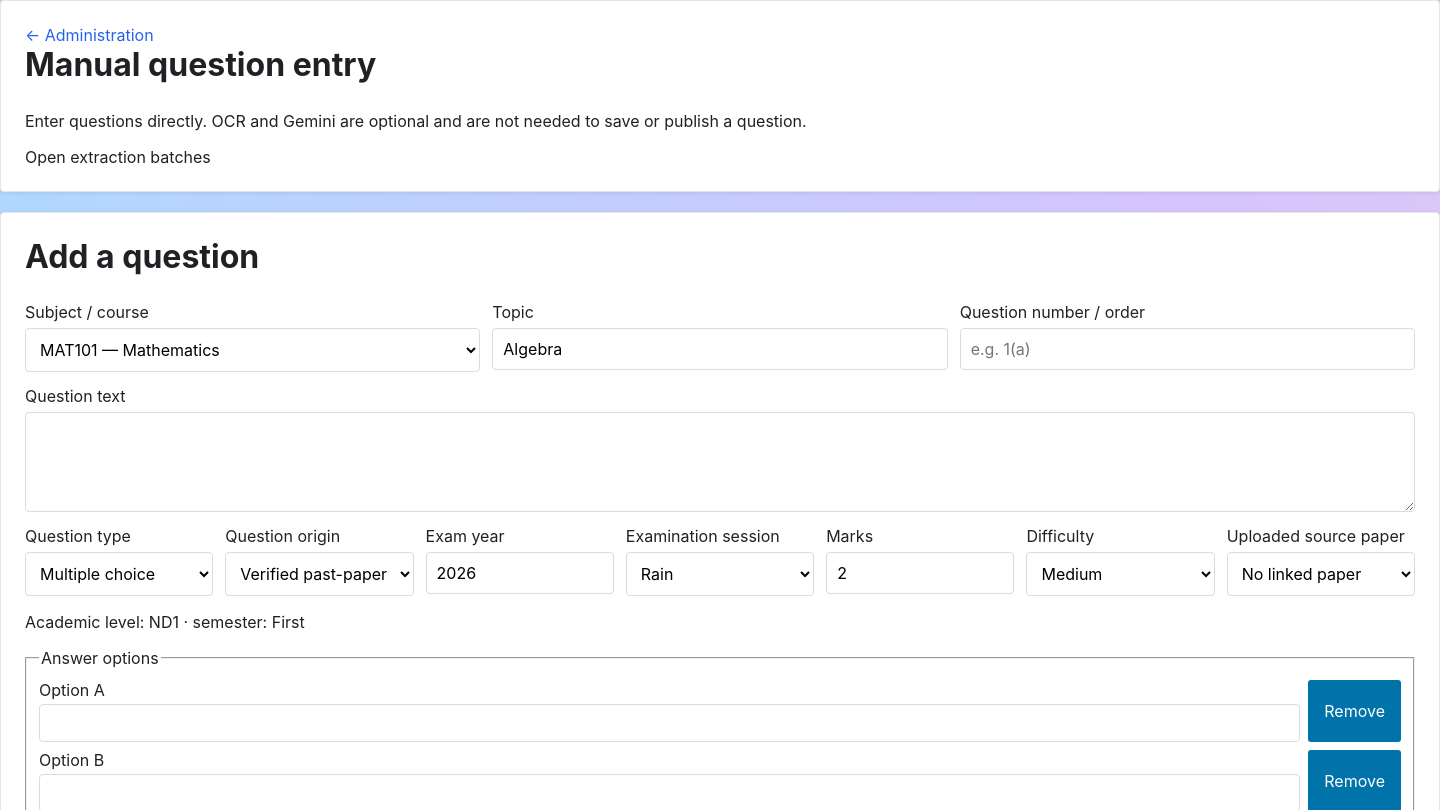
Scenario: manual question editor › prevents incomplete publication and supports adding/removing options and selecting the answer
Earlier steps of the test are not shown.
Later steps or results of the test are not shown.
Type "Solve x + 2 = 4" into the text box labelled "Question text" at (720, 462), box [25,412,1415,512]
(page scrolled)
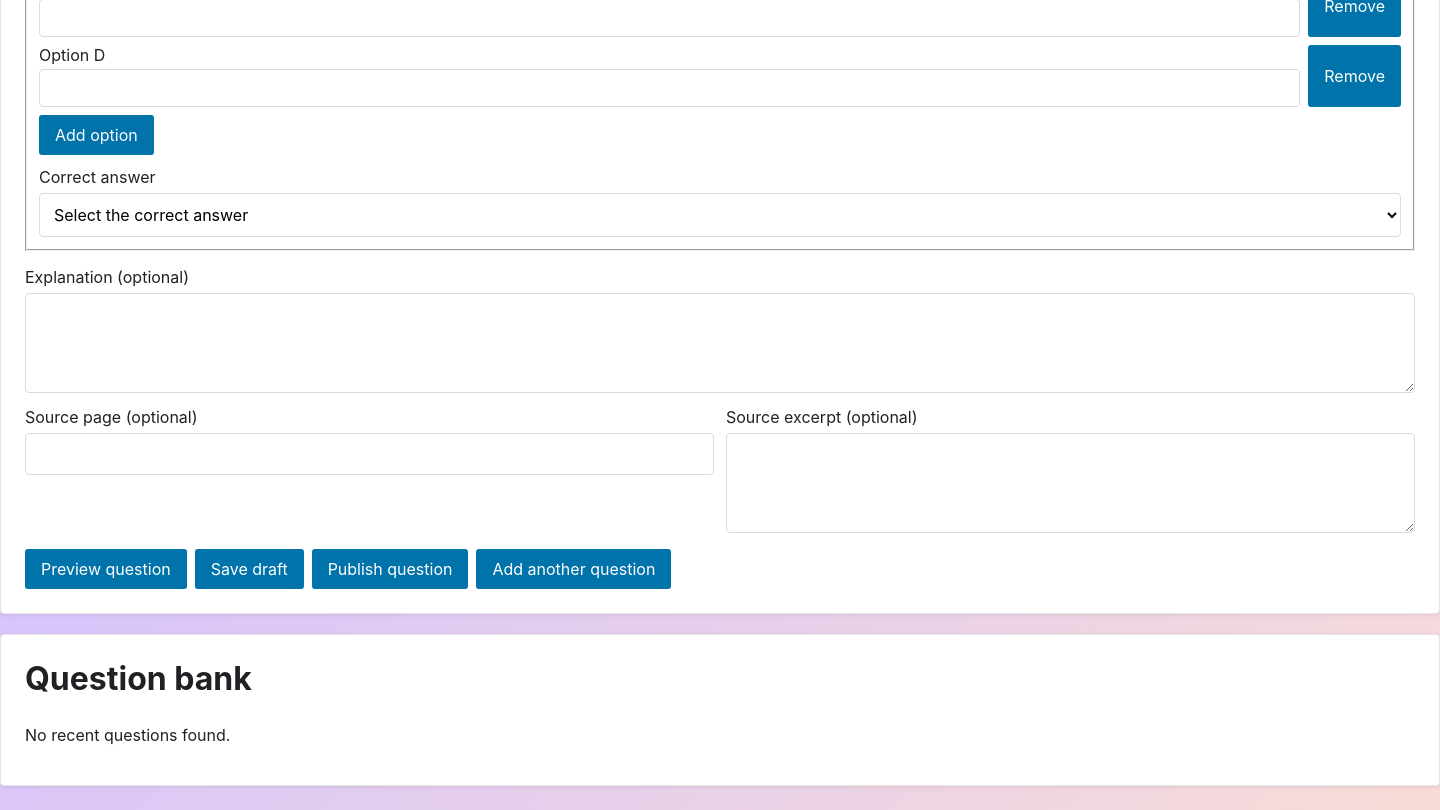
Click the button "Publish question" at (390, 569), box [312,549,468,589]
(page scrolled)
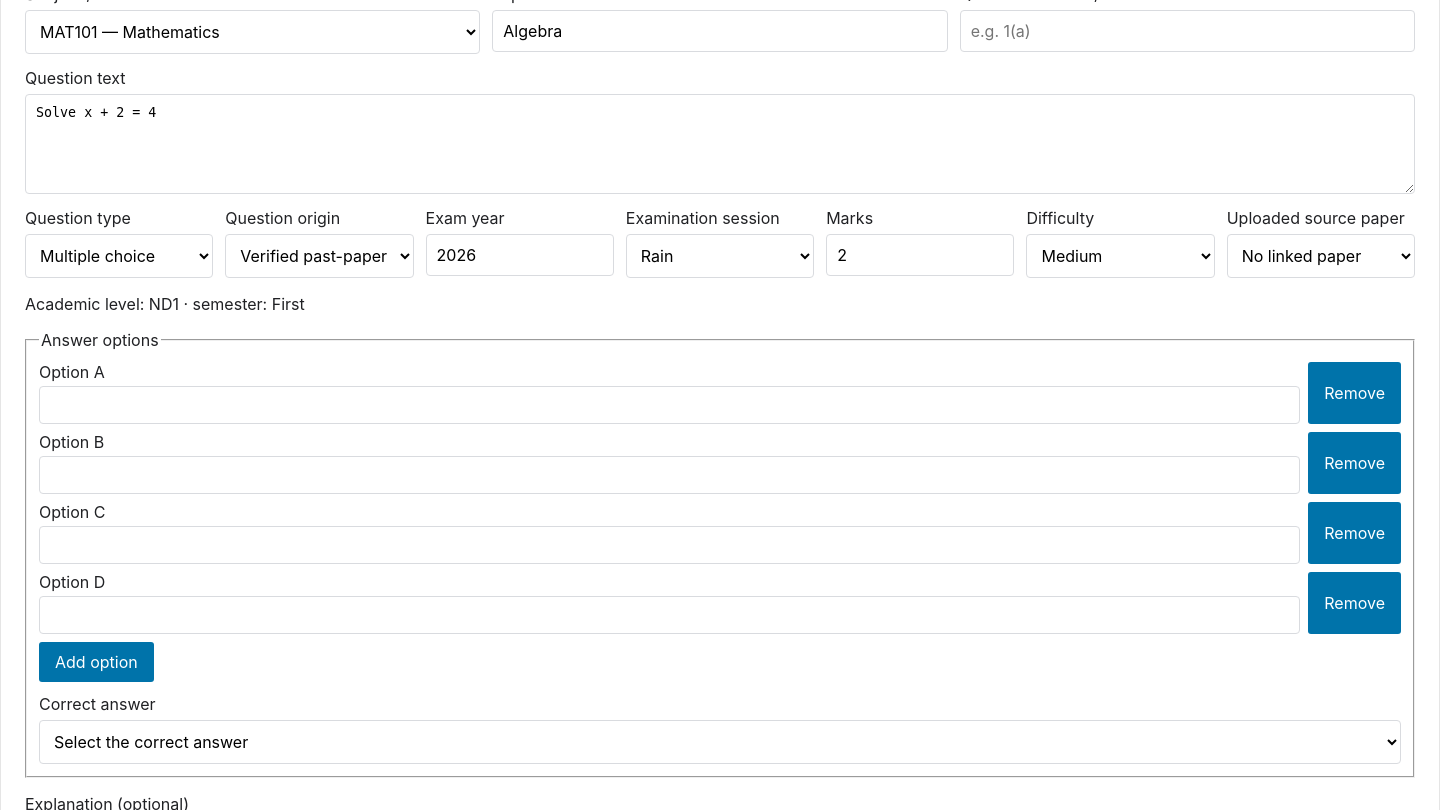
Type "2" into the field labelled "Option A" at (670, 405), box [39,386,1300,424]
Type "3" into the field labelled "Option B" at (670, 475), box [39,456,1300,494]
Click the button "Add option" at (96, 662), box [39,642,154,682]
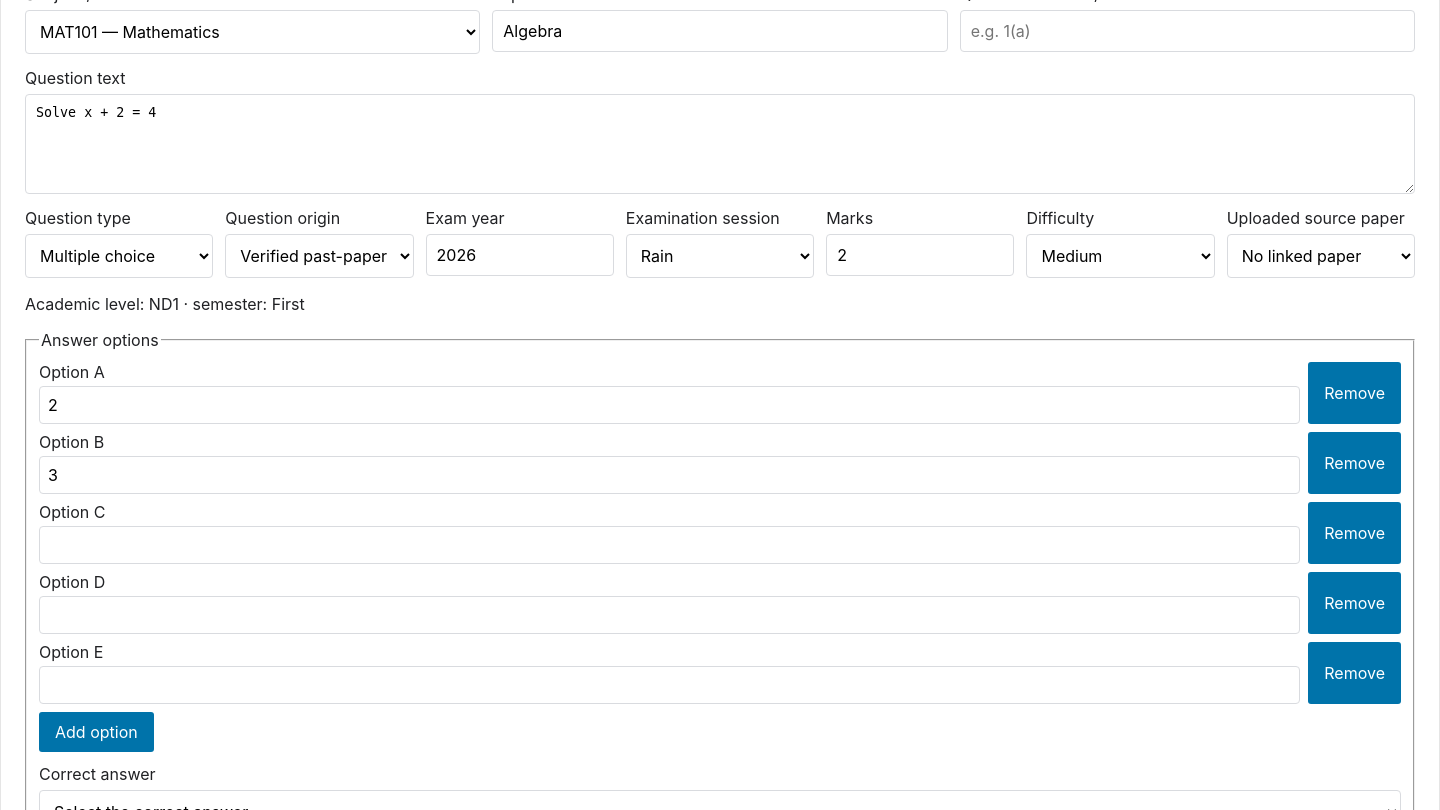
Expected: the field labelled "Option E" is shown, [39,666,1300,704]
Click the button with aria-label "Remove option E" at (1355, 673), box [1308,642,1401,704]
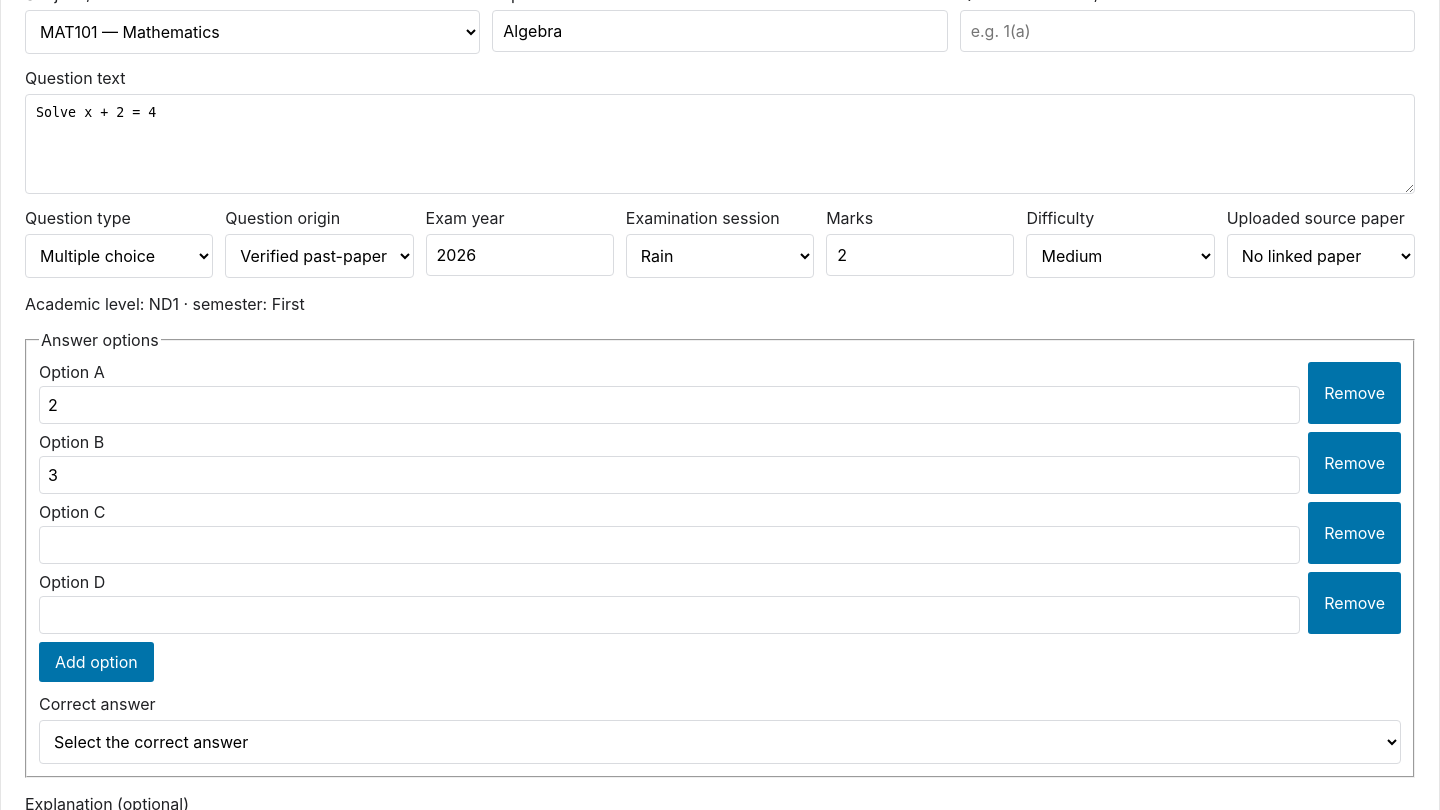
Expected: the label labelled "Option E" is gone
Select "A — 2" in the dropdown labelled "Correct answer" at (720, 742), box [39,720,1401,764]
(page scrolled)
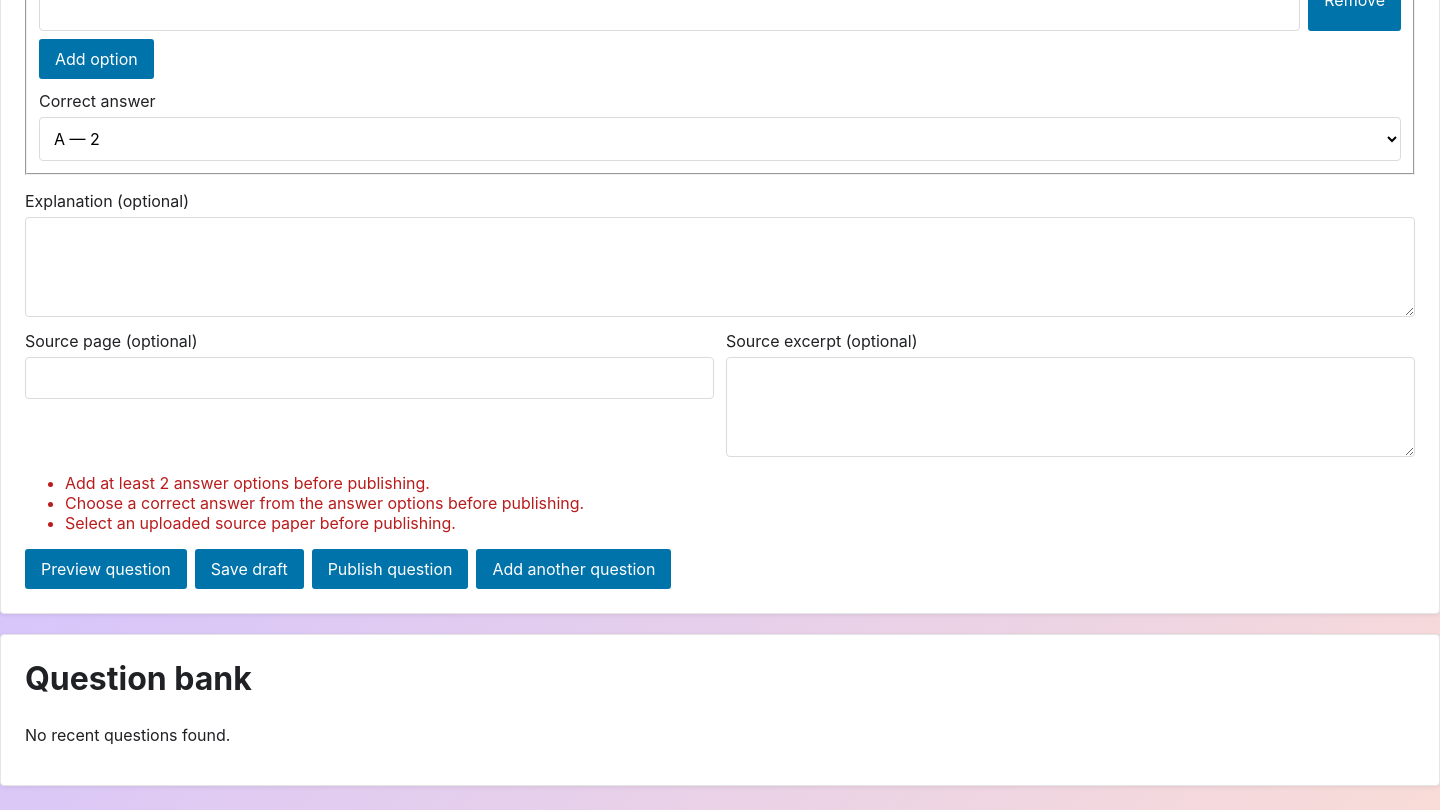
Click the button "Preview question" at (106, 569), box [25,549,187,589]
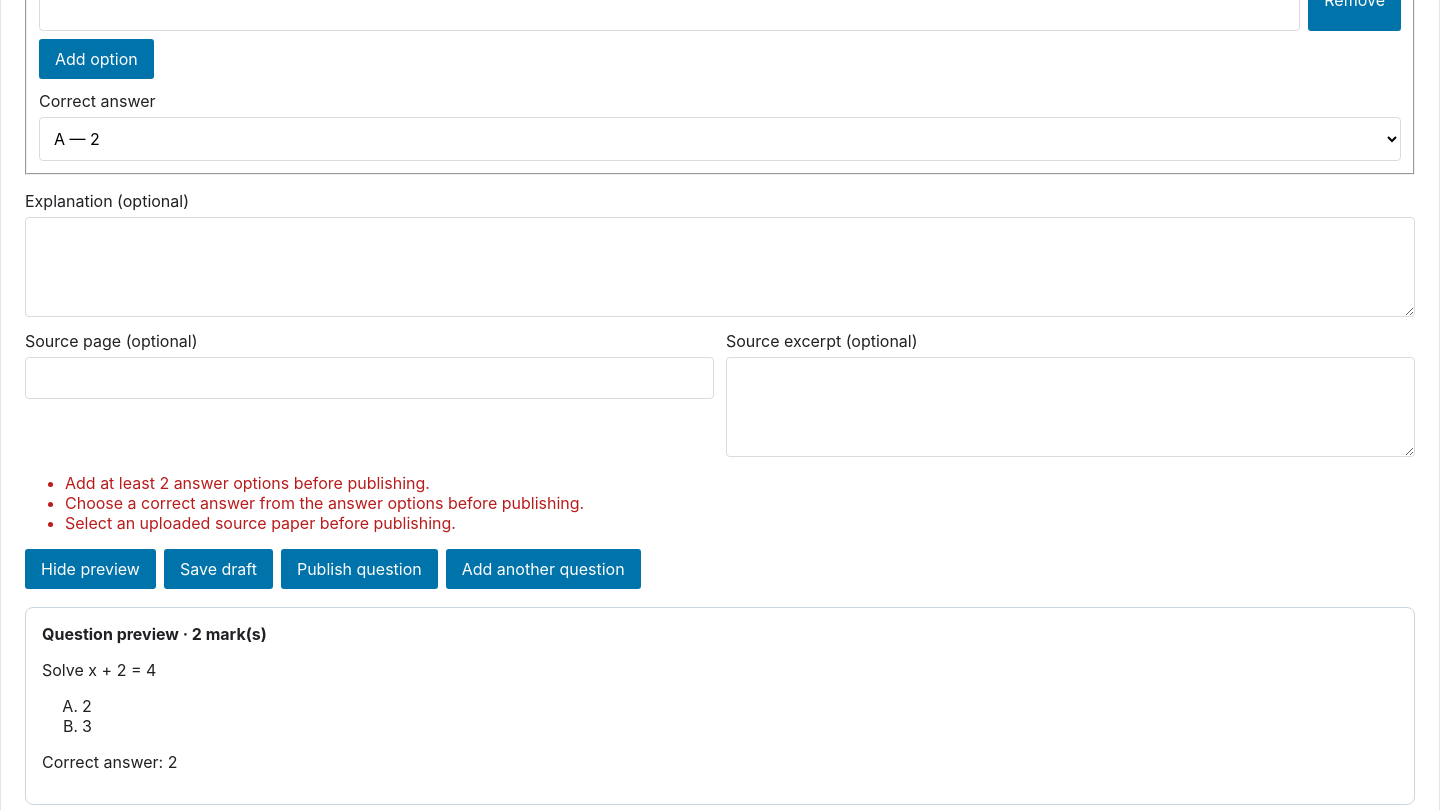
Expected: the element labelled "Question preview" is shown, [25,607,1415,805]
